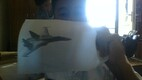maybay_muctieu: (21, 24, 72, 58)
